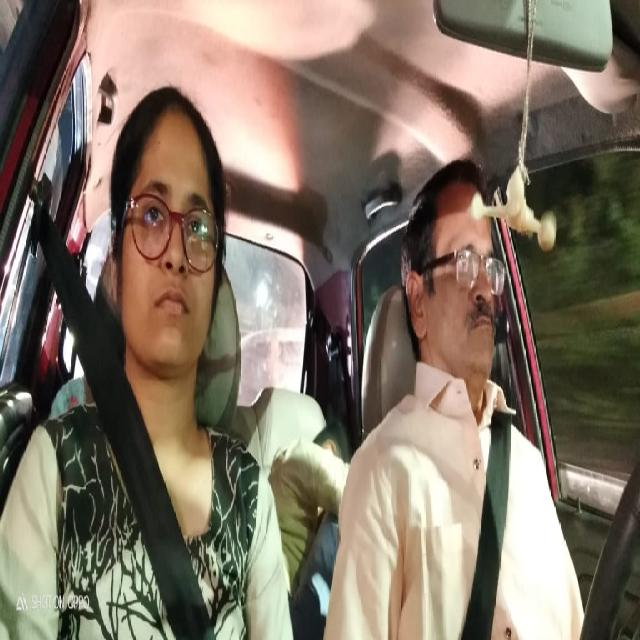person: (108, 99, 226, 372), (398, 156, 509, 397), (316, 425, 344, 508)
